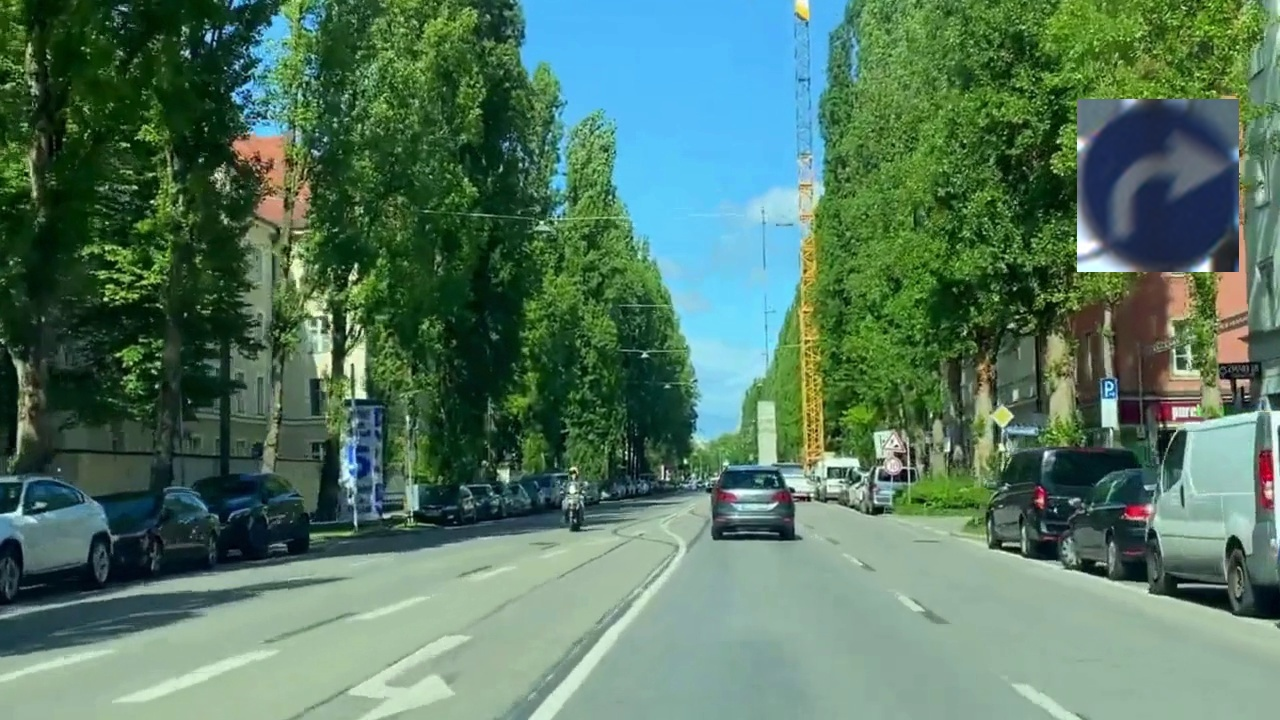Turn right: (1077, 99, 1239, 272)
